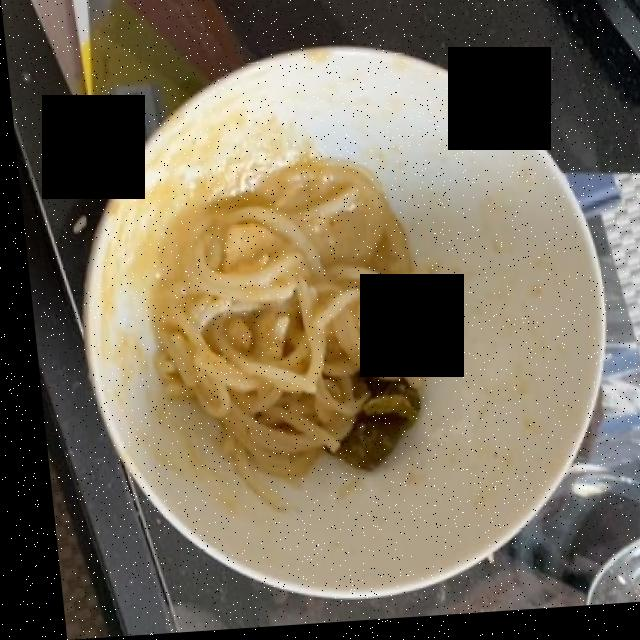chicken-cut-into-stripes-only-meat: (217, 237, 269, 269)
coconut-milk: (159, 179, 270, 278)
rice-noodles-vermicelli: (139, 163, 417, 502)
